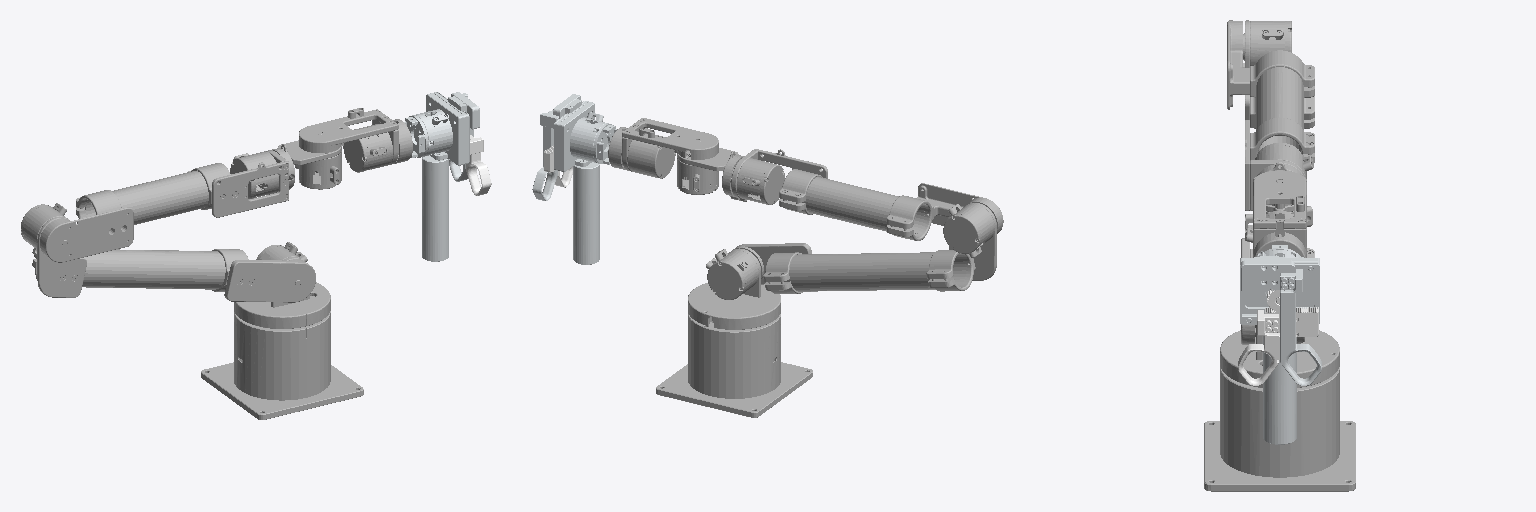
robot.urdf — replay:
<?xml version="1.0" ?>
<robot name="replay">
  <link name="base_link">
    <inertial>
      <origin xyz="-0.001173 9.8372E-05 0.035836" rpy="0 0 0"/>
      <mass value="0.329"/>
      <inertia ixx="0.00098892" ixy="-4.34E-06" ixz="-2.336E-05" iyy="0.001002" iyz="1.05E-06" izz="0.00051709"/>
    </inertial>
    <visual>
      <origin xyz="0 0 0" rpy="0 0 0"/>
      <geometry>
        <mesh filename="../meshes/base_link.STL"/>
      </geometry>
      <material name="">
        <color rgba="0.75294 0.75294 0.75294 1"/>
      </material>
    </visual>
    <collision>
      <origin xyz="0 0 0" rpy="0 0 0"/>
      <geometry>
        <mesh filename="../meshes/base_link.STL"/>
      </geometry>
    </collision>
  </link>
  <link name="link1">
    <inertial>
      <origin xyz="6.2816E-05 -0.0022326 -0.016518" rpy="0 0 0"/>
      <mass value="0.168"/>
      <inertia ixx="0.0001409" ixy="5.5E-07" ixz="7.6E-07" iyy="0.00013719" iyz="2.71E-06" izz="0.00010138"/>
    </inertial>
    <visual>
      <origin xyz="0 0 0" rpy="0 0 0"/>
      <geometry>
        <mesh filename="../meshes/link1.STL"/>
      </geometry>
      <material name="">
        <color rgba="0.75294 0.75294 0.75294 1"/>
      </material>
    </visual>
    <collision>
      <origin xyz="0 0 0" rpy="0 0 0"/>
      <geometry>
        <mesh filename="../meshes/link1.STL"/>
      </geometry>
    </collision>
  </link>
  <link name="link2">
    <inertial>
      <origin xyz="0.16295 0.013139 0.010967" rpy="0 0 0"/>
      <mass value="0.24"/>
      <inertia ixx="0.00019292" ixy="0.00055639" ixz="0.0003954" iyy="0.0093981" iyz="2.033E-05" izz="0.009417"/>
    </inertial>
    <visual>
      <origin xyz="0 0 0" rpy="0 0 0"/>
      <geometry>
        <mesh filename="../meshes/link2.STL"/>
      </geometry>
      <material name="">
        <color rgba="0.75294 0.75294 0.75294 1"/>
      </material>
    </visual>
    <collision>
      <origin xyz="0 0 0" rpy="0 0 0"/>
      <geometry>
        <mesh filename="../meshes/link2.STL"/>
      </geometry>
    </collision>
  </link>
  <link name="link3">
    <inertial>
      <origin xyz="1.0676E-05 0.14379 0.0095964" rpy="0 0 0"/>
      <mass value="0.235"/>
      <inertia ixx="0.0067773" ixy="-3E-07" ixz="3.6E-07" iyy="0.00012145" iyz="0.00017058" izz="0.0067053"/>
    </inertial>
    <visual>
      <origin xyz="0 0 0" rpy="0 0 0"/>
      <geometry>
        <mesh filename="../meshes/link3.STL"/>
      </geometry>
      <material name="">
        <color rgba="0.75294 0.75294 0.75294 1"/>
      </material>
    </visual>
    <collision>
      <origin xyz="0 0 0" rpy="0 0 0"/>
      <geometry>
        <mesh filename="../meshes/link3.STL"/>
      </geometry>
    </collision>
  </link>
  <link name="link4">
    <inertial>
      <origin xyz="7.6182E-05 -0.0023646 -0.010567" rpy="0 0 0"/>
      <mass value="0.108"/>
      <inertia ixx="7.344E-05" ixy="2E-08" ixz="1.9E-07" iyy="7.073E-05" iyz="3.54E-06" izz="2.321E-05"/>
    </inertial>
    <visual>
      <origin xyz="0 0 0" rpy="0 0 0"/>
      <geometry>
        <mesh filename="../meshes/link4.STL"/>
      </geometry>
      <material name="">
        <color rgba="0.75294 0.75294 0.75294 1"/>
      </material>
    </visual>
    <collision>
      <origin xyz="0 0 0" rpy="0 0 0"/>
      <geometry>
        <mesh filename="../meshes/link4.STL"/>
      </geometry>
    </collision>
  </link>
  <link name="link5">
    <inertial>
      <origin xyz="-7.1031E-06 0.044884 0.0097994" rpy="0 0 0"/>
      <mass value="0.126"/>
      <inertia ixx="0.00035433" ixy="2.4E-07" ixz="-2.8E-07" iyy="4.56E-05" iyz="2.85E-05" izz="0.00033629"/>
    </inertial>
    <visual>
      <origin xyz="0 0 0" rpy="0 0 0"/>
      <geometry>
        <mesh filename="../meshes/link5.STL"/>
      </geometry>
      <material name="">
        <color rgba="0.75294 0.75294 0.75294 1"/>
      </material>
    </visual>
    <collision>
      <origin xyz="0 0 0" rpy="0 0 0"/>
      <geometry>
        <mesh filename="../meshes/link5.STL"/>
      </geometry>
    </collision>
  </link>
  <link name="link6">
    <inertial>
      <origin xyz="-1.7327E-06 5.2284E-05 0.081166" rpy="0 0 0"/>
      <mass value="0.029"/>
      <inertia ixx="0.00018195" ixy="0" ixz="0" iyy="0.0001819" iyz="1.3E-07" izz="4.06E-06"/>
    </inertial>
    <visual>
      <origin xyz="0 0 0" rpy="0 0 0"/>
      <geometry>
        <mesh filename="../meshes/link6.STL"/>
      </geometry>
      <material name="">
        <color rgba="0.75294 0.75294 0.75294 1"/>
      </material>
    </visual>
    <collision>
      <origin xyz="0 0 0" rpy="0 0 0"/>
      <geometry>
        <mesh filename="../meshes/link6.STL"/>
      </geometry>
    </collision>
  </link>
  <link name="eef_connect_base_link">
    <inertial>
      <origin xyz="3.5687E-06 0.00020484 -0.004811" rpy="0 0 0"/>
      <mass value="0.019009"/>
      <inertia ixx="4.0476E-06" ixy="-9.5794E-10" ixz="1.8201E-10" iyy="3.9455E-06" iyz="7.997E-09" izz="7.498E-06"/>
    </inertial>
    <visual>
      <origin xyz="0 0 0" rpy="0 0 0"/>
      <geometry>
        <mesh filename="../meshes/eef_connect_base_link.STL"/>
      </geometry>
      <material name="">
        <color rgba="0.89804 0.91765 0.92941 1"/>
      </material>
    </visual>
    <collision>
      <origin xyz="0 0 0" rpy="0 0 0"/>
      <geometry>
        <mesh filename="../meshes/eef_connect_base_link.STL"/>
      </geometry>
    </collision>
  </link>
  <link name="e2_base_link">
    <inertial>
      <origin xyz="1.8469E-05 0.021885 0.02657" rpy="0 0 0"/>
      <mass value="0.165"/>
      <inertia ixx="0.00043488" ixy="-2.7E-07" ixz="1.4E-07" iyy="0.00018449" iyz="7.843E-05" izz="0.00031075"/>
    </inertial>
    <visual>
      <origin xyz="0 0 0" rpy="0 0 0"/>
      <geometry>
        <mesh filename="../meshes/e2_base_link.STL"/>
      </geometry>
      <material name="">
        <color rgba="0.89804 0.91765 0.92941 1"/>
      </material>
    </visual>
    <collision>
      <origin xyz="0 0 0" rpy="0 0 0"/>
      <geometry>
        <mesh filename="../meshes/e2_base_link.STL"/>
      </geometry>
    </collision>
  </link>
  <link name="e2_gear_Link">
    <inertial>
      <origin xyz="-2.3058E-05 7.5478E-05 -0.010048" rpy="0 0 0"/>
      <mass value="0.019"/>
      <inertia ixx="7.79E-06" ixy="0" ixz="0" iyy="7.79E-06" iyz="0" izz="4.2E-07"/>
    </inertial>
    <visual>
      <origin xyz="0 0 0" rpy="0 0 0"/>
      <geometry>
        <mesh filename="../meshes/e2_gear_Link.STL"/>
      </geometry>
      <material name="">
        <color rgba="1 1 1 1"/>
      </material>
    </visual>
    <collision>
      <origin xyz="0 0 0" rpy="0 0 0"/>
      <geometry>
        <mesh filename="../meshes/e2_gear_Link.STL"/>
      </geometry>
    </collision>
  </link>
  <link name="e2_left_Link">
    <inertial>
      <origin xyz="0.00018385 -2.5356E-06 0.0015828" rpy="0 0 0"/>
      <mass value="0.0559"/>
      <inertia ixx="4.239E-05" ixy="6.46E-06" ixz="2.71E-06" iyy="1.085E-05" iyz="9.2E-06" izz="3.724E-05"/>
    </inertial>
    <visual>
      <origin xyz="0 0 0" rpy="0 0 0"/>
      <geometry>
        <mesh filename="../meshes/e2_left_Link.STL"/>
      </geometry>
      <material name="">
        <color rgba="0.89804 0.91765 0.92941 1"/>
      </material>
    </visual>
    <collision>
      <origin xyz="0 0 0" rpy="0 0 0"/>
      <geometry>
        <mesh filename="../meshes/e2_left_Link.STL"/>
      </geometry>
    </collision>
  </link>
  <link name="e2_right_Link">
    <inertial>
      <origin xyz="-0.0013452 -0.02469 0.000566" rpy="0 0 0"/>
      <mass value="0.0447"/>
      <inertia ixx="3.951E-05" ixy="1.95E-06" ixz="2.41E-06" iyy="1.012E-05" iyz="-2.01E-06" izz="3.433E-05"/>
    </inertial>
    <visual>
      <origin xyz="0 0 0" rpy="0 0 0"/>
      <geometry>
        <mesh filename="../meshes/e2_right_Link.STL"/>
      </geometry>
      <material name="">
        <color rgba="1 1 1 1"/>
      </material>
    </visual>
    <collision>
      <origin xyz="0 0 0" rpy="0 0 0"/>
      <geometry>
        <mesh filename="../meshes/e2_right_Link.STL"/>
      </geometry>
    </collision>
  </link>
  <link name="e2_virtual_link"/>
  <joint name="joint1" type="revolute">
    <origin xyz="0 0 0.11461" rpy="0 0 0"/>
    <parent link="base_link"/>
    <child link="link1"/>
    <axis xyz="0 0 1"/>
    <limit lower="-3.14" upper="2.09" effort="0" velocity="0"/>
  </joint>
  <joint name="joint2" type="revolute">
    <origin xyz="0 0 0" rpy="-1.5708 -0.38842 -3.1416"/>
    <parent link="link1"/>
    <child link="link2"/>
    <axis xyz="0 0 1"/>
    <limit lower="-2.96" upper="0.174" effort="0" velocity="0"/>
  </joint>
  <joint name="joint3" type="revolute">
    <origin xyz="0.27024 0 0" rpy="0 0 1.9592"/>
    <parent link="link2"/>
    <child link="link3"/>
    <axis xyz="0 0 1"/>
    <limit lower="-0.087" upper="3.14" effort="0" velocity="0"/>
  </joint>
  <joint name="joint4" type="revolute">
    <origin xyz="0 0.28965 0" rpy="-1.5708 -1.5708 0"/>
    <parent link="link3"/>
    <child link="link4"/>
    <axis xyz="0 0 1"/>
    <limit lower="-3.009" upper="3.009" effort="0" velocity="0"/>
  </joint>
  <joint name="joint5" type="revolute">
    <origin xyz="0 0 0" rpy="1.5708 0 0"/>
    <parent link="link4"/>
    <child link="link5"/>
    <axis xyz="0 0 1"/>
    <limit lower="-1.76" upper="1.76" effort="0" velocity="0"/>
  </joint>
  <joint name="joint6" type="revolute">
    <origin xyz="0 0 0" rpy="-1.5708 0 0"/>
    <parent link="link5"/>
    <child link="link6"/>
    <axis xyz="0 0 1"/>
    <limit lower="-3.009" upper="3.009" effort="0" velocity="0"/>
  </joint>
  <joint name="e2_gear_joint" type="fixed">
    <origin xyz="0 0 0.0554" rpy="0 0 3.1415"/>
    <parent link="e2_base_link"/>
    <child link="e2_gear_Link"/>
    <axis xyz="0 0 0"/>
    <limit lower="0" upper="2.66" effort="0" velocity="0"/>
  </joint>
  <joint name="e2_left_joint" type="prismatic">
    <origin xyz="0 0 0.001" rpy="3.14159265358979 -1.5707963267949 0"/>
    <parent link="e2_gear_Link"/>
    <child link="e2_left_Link"/>
    <axis xyz="0 0 1"/>
    <limit lower="0" upper="0.02395" effort="0" velocity="0"/>
    <mimic joint="e2_joint" multiplier="0.5"/>
  </joint>
  <joint name="e2_right_joint" type="prismatic">
    <origin xyz="0 0 0.001" rpy="0 -1.5708 0"/>
    <parent link="e2_gear_Link"/>
    <child link="e2_right_Link"/>
    <axis xyz="0 0 1"/>
    <limit lower="0" upper="0.02395" effort="0" velocity="0"/>
    <mimic joint="e2_joint" multiplier="0.5"/>
  </joint>
  <joint name="arm_connect_joint" type="fixed">
    <parent link="link6"/>
    <child link="eef_connect_base_link"/>
    <origin xyz="0.0 0.0 0.0955" rpy="0.0 0.0 0.0"/>
  </joint>
  <joint name="connect_eef_joint" type="fixed">
    <parent link="eef_connect_base_link"/>
    <child link="e2_base_link"/>
    <origin xyz="0.0 0.0 0.0" rpy="0.0 0.0 0.0"/>
  </joint>
  <joint name="e2_joint" type="prismatic">
    <parent link="e2_base_link"/>
    <child link="e2_virtual_link"/>
    <origin xyz="0.0 0.0 0.0" rpy="0.0 0.0 0.0"/>
    <axis xyz="0.0 0.0 1.0"/>
    <limit lower="0.0" upper="0.0479" effort="0.0" velocity="0.0"/>
  </joint>
  <link name="end_link"/>
  <joint name="end_joint" type="fixed">
    <parent link="link6"/>
    <child link="end_link"/>
    <origin xyz="0.0 0.0 0.1488995" rpy="1.57 -1.57 0.0"/>
  </joint>
</robot>

--- What the picture shows (computed from the rendered views, not written in the file) ---
3 views of the same robot in one strip: view 1: azimuth 30°, elevation 25°; view 2: azimuth 150°, elevation 25°; view 3: azimuth 270°, elevation 25° (orthographic).
Robot: replay — 14 links, 13 joints (6 revolute, 3 prismatic, 4 fixed); root link base_link; default pose: all joints at 0.
Visible links, largest first — view 1: link2, link3, base_link, e2_base_link, link5, link1, link4, e2_right_Link, e2_left_Link; view 2: link2, link3, base_link, e2_base_link, link1, link5, link4, e2_left_Link; view 3: base_link, link3, e2_base_link, e2_left_Link, link5, link1, link2, e2_right_Link, link6, link4.
Link boxes in pixels (x1,y1,x2,y2): link2: [21, 203, 315, 302]; link3: [40, 150, 288, 262]; base_link: [201, 296, 363, 419]; e2_base_link: [404, 92, 469, 261]; link5: [299, 108, 398, 172]; link1: [234, 242, 330, 328]; link4: [272, 140, 343, 189]; e2_right_Link: [466, 135, 491, 195]; e2_left_Link: [448, 92, 479, 181]; link2: [733, 203, 996, 293]; link3: [731, 149, 1003, 240]; base_link: [656, 314, 812, 417]; e2_base_link: [554, 101, 616, 264]; link1: [688, 248, 780, 329]; link5: [622, 118, 718, 178]; link4: [675, 148, 743, 200]; e2_left_Link: [532, 94, 581, 200]; base_link: [1204, 367, 1355, 491]; link3: [1227, 20, 1314, 210]; e2_base_link: [1240, 245, 1319, 444]; e2_left_Link: [1241, 256, 1321, 385]; link5: [1245, 170, 1306, 253]; link1: [1220, 325, 1339, 387]; link2: [1241, 20, 1314, 344]; e2_right_Link: [1238, 307, 1318, 385]; link6: [1253, 232, 1306, 257]; link4: [1245, 162, 1312, 232].
Size in the robot's own frame: 0.4711 by 0.111 by 0.25 metres.
Meshes: 12 distinct files referenced, 11 mesh visuals loaded (11 binary STL); not drawn: 1 (reference not matched to a file when rendering).
